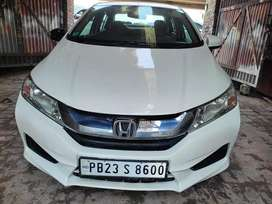PB23S8600: (80, 158, 166, 177)
